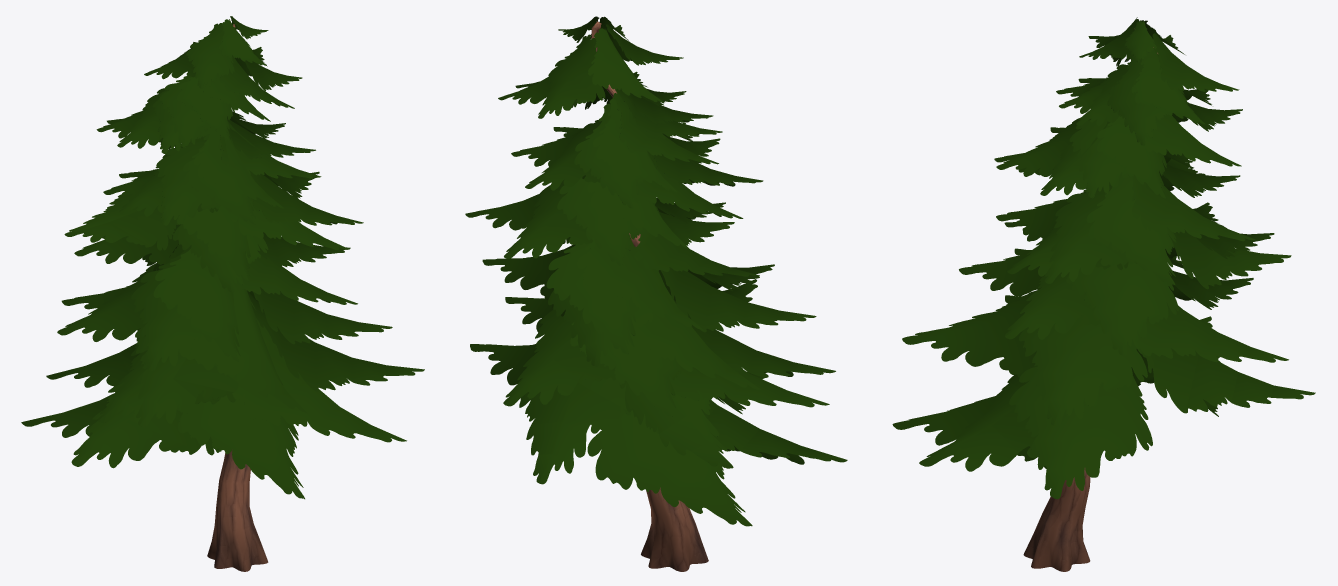
File: quaternius-pine.glb
3 views of the same model, side by side, from view 1: azimuth 30°, elevation 25°; view 2: azimuth 150°, elevation 25°; view 3: azimuth 270°, elevation 25° (orthographic). The views are drawn at different scales.
Parts seen in each view (by area): view 1: Pine_5; view 2: Pine_5; view 3: Pine_5.
Part boxes in pixels (<box>): Pine_5: <box>21,16,424,571</box>; Pine_5: <box>465,16,847,571</box>; Pine_5: <box>892,17,1315,571</box>.
Bounding box in the file's own units: 6.42 × 8.72 × 6.22.
Materials: 2 (2 with a texture image).
